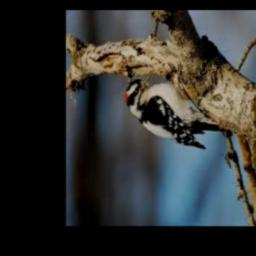Woodpecker: (126, 74, 232, 149)
